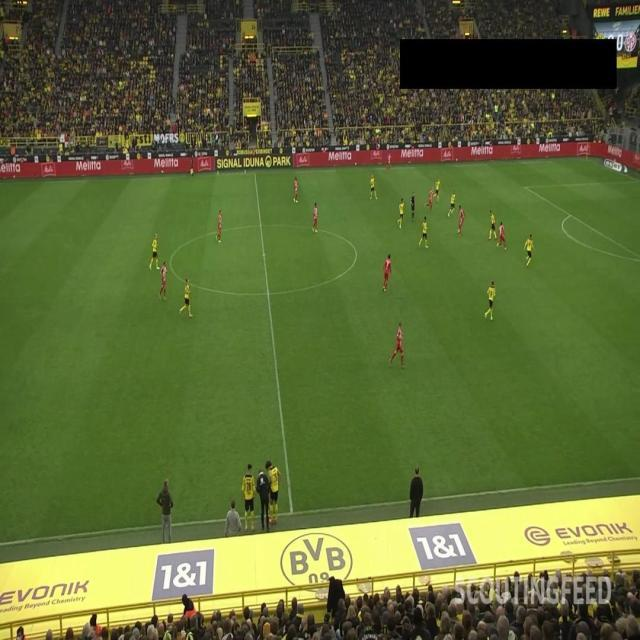ball: (458, 228, 461, 235)
player: (389, 322, 406, 369), (179, 277, 193, 318), (484, 280, 496, 321), (523, 233, 535, 268), (149, 233, 160, 271), (383, 254, 393, 293), (159, 261, 168, 301), (419, 216, 429, 249), (496, 221, 507, 251), (488, 209, 498, 241), (424, 186, 435, 214), (457, 204, 466, 236), (448, 190, 457, 218), (369, 173, 378, 201), (216, 210, 223, 243), (398, 197, 405, 229), (313, 202, 319, 233), (386, 149, 393, 175), (293, 176, 299, 203), (435, 177, 441, 203)
referee: (188, 154, 195, 178), (410, 191, 415, 222)
